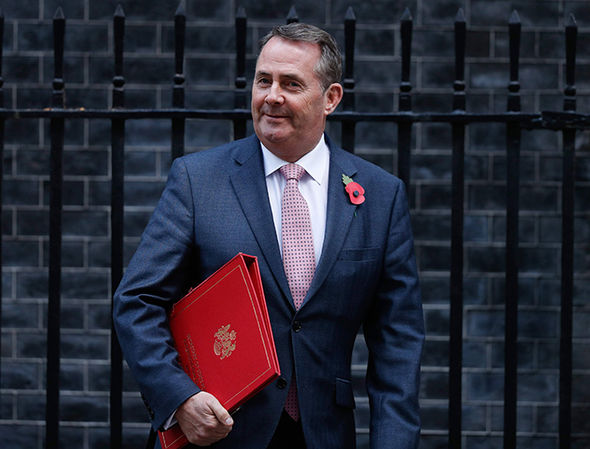red folder: (143, 250, 288, 449)
